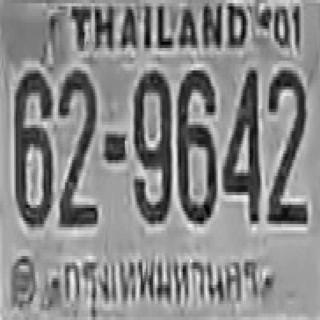N02: (266, 64, 305, 221), (58, 67, 95, 224)
N04: (222, 64, 258, 221)
N06: (176, 67, 215, 221), (14, 67, 51, 224)
N09: (132, 67, 171, 221)
P04: (58, 246, 265, 320)
